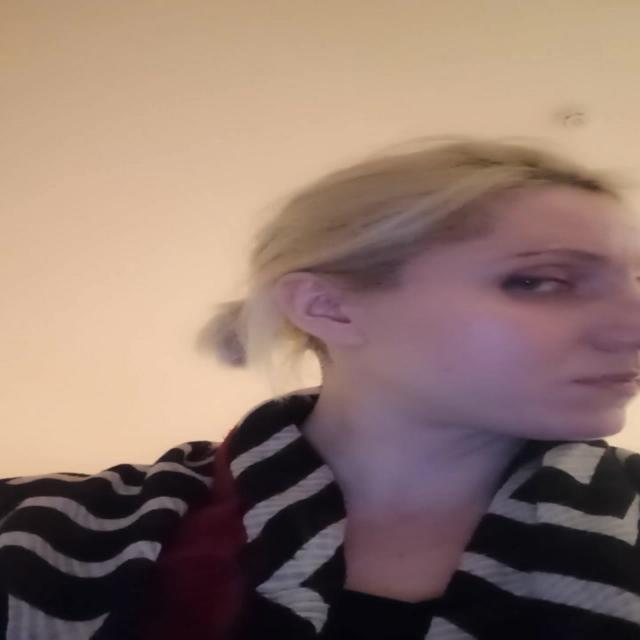earlobe: (277, 272, 368, 349)
